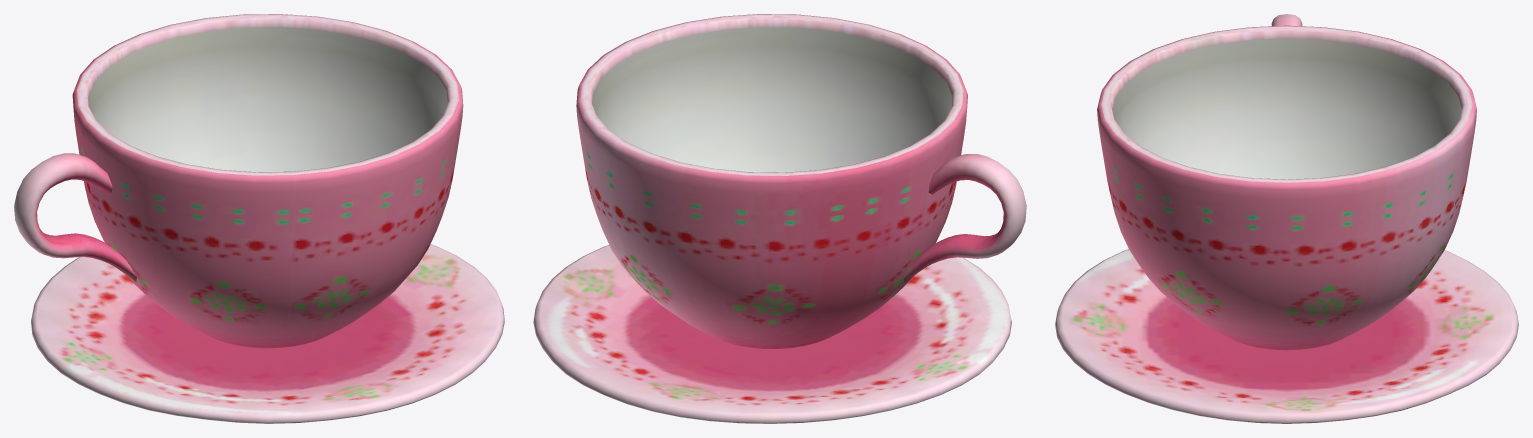
3 renders of one model, left to right at view 1: azimuth 30°, elevation 25°; view 2: azimuth 150°, elevation 25°; view 3: azimuth 270°, elevation 25°, orthographic. The views are drawn at different scales.
Parts seen in each view (by area): view 1: polySurface12, cup2_pCylinder1; view 2: polySurface12, cup2_pCylinder1; view 3: polySurface12, cup2_pCylinder1.
Part boxes in pixels (x1,y1,x2,y2): polySurface12: [14, 14, 463, 348]; cup2_pCylinder1: [31, 244, 504, 423]; polySurface12: [576, 14, 1026, 348]; cup2_pCylinder1: [533, 245, 1011, 423]; polySurface12: [1097, 14, 1476, 350]; cup2_pCylinder1: [1055, 249, 1518, 423].
Bounding box in the file's own units: 9.99 × 5.3 × 9.04.
